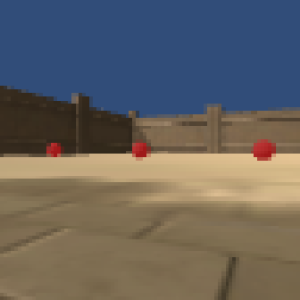badGoal: (249, 137, 277, 164), (129, 140, 150, 162), (43, 140, 61, 160)
